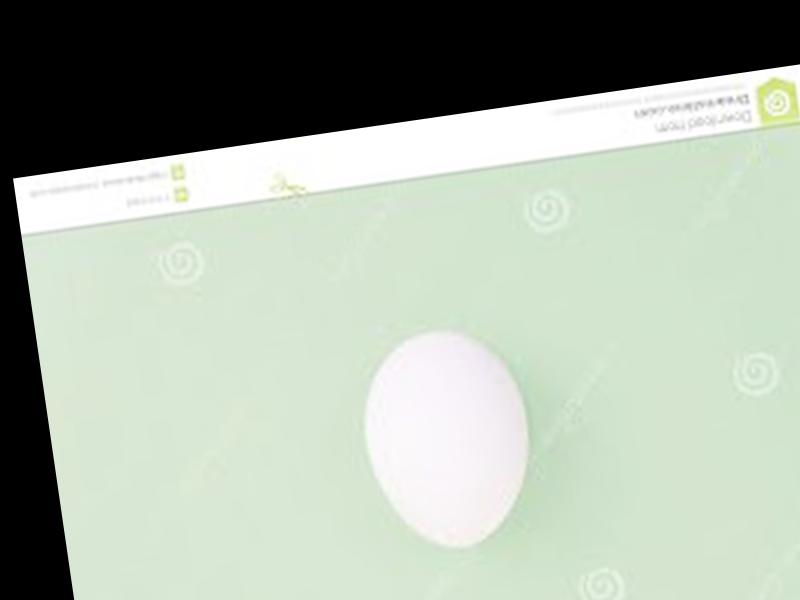Eggs: (355, 321, 544, 555)
